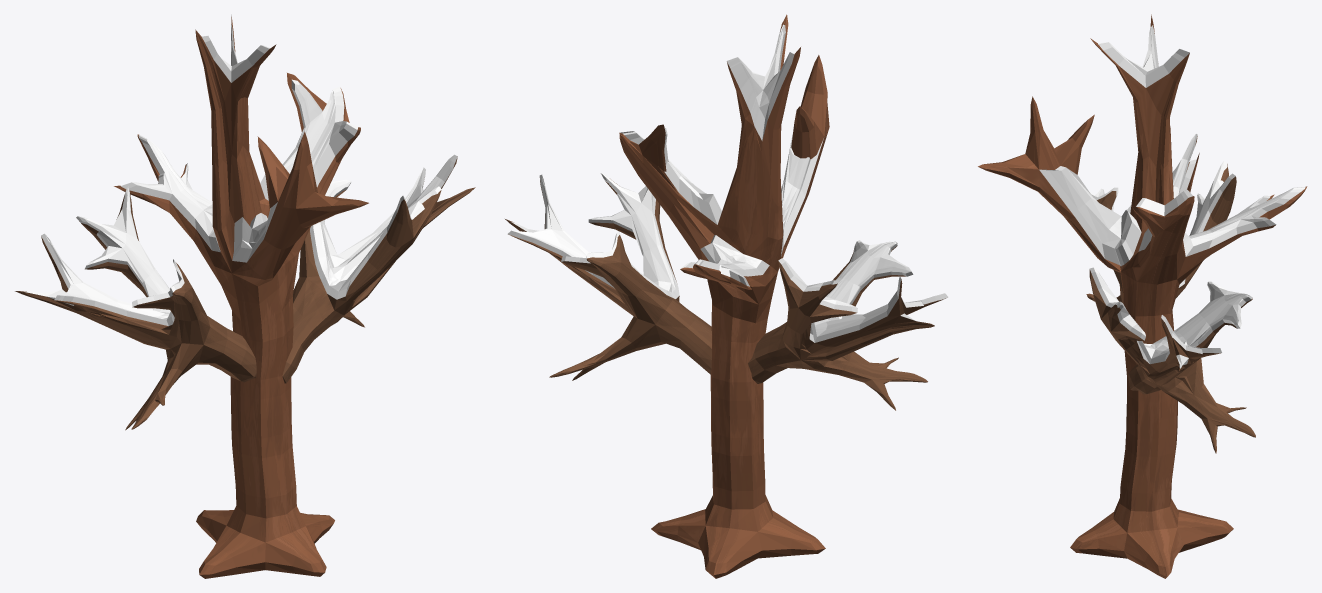
File: Tree5.fbx
The picture shows the model from 3 angles, left to right: view 1: azimuth 30°, elevation 25°; view 2: azimuth 150°, elevation 25°; view 3: azimuth 270°, elevation 25°; orthographic projection. The views are drawn at different scales.
Parts seen in each view (by area): view 1: Tree5; view 2: Tree5; view 3: Tree5.
Part boxes in pixels (bbox=[...]): Tree5: bbox=[15, 14, 475, 578]; Tree5: bbox=[505, 14, 948, 578]; Tree5: bbox=[978, 14, 1307, 578].
Size of the model in its own units: 25.69 by 29.12 by 17.34.
